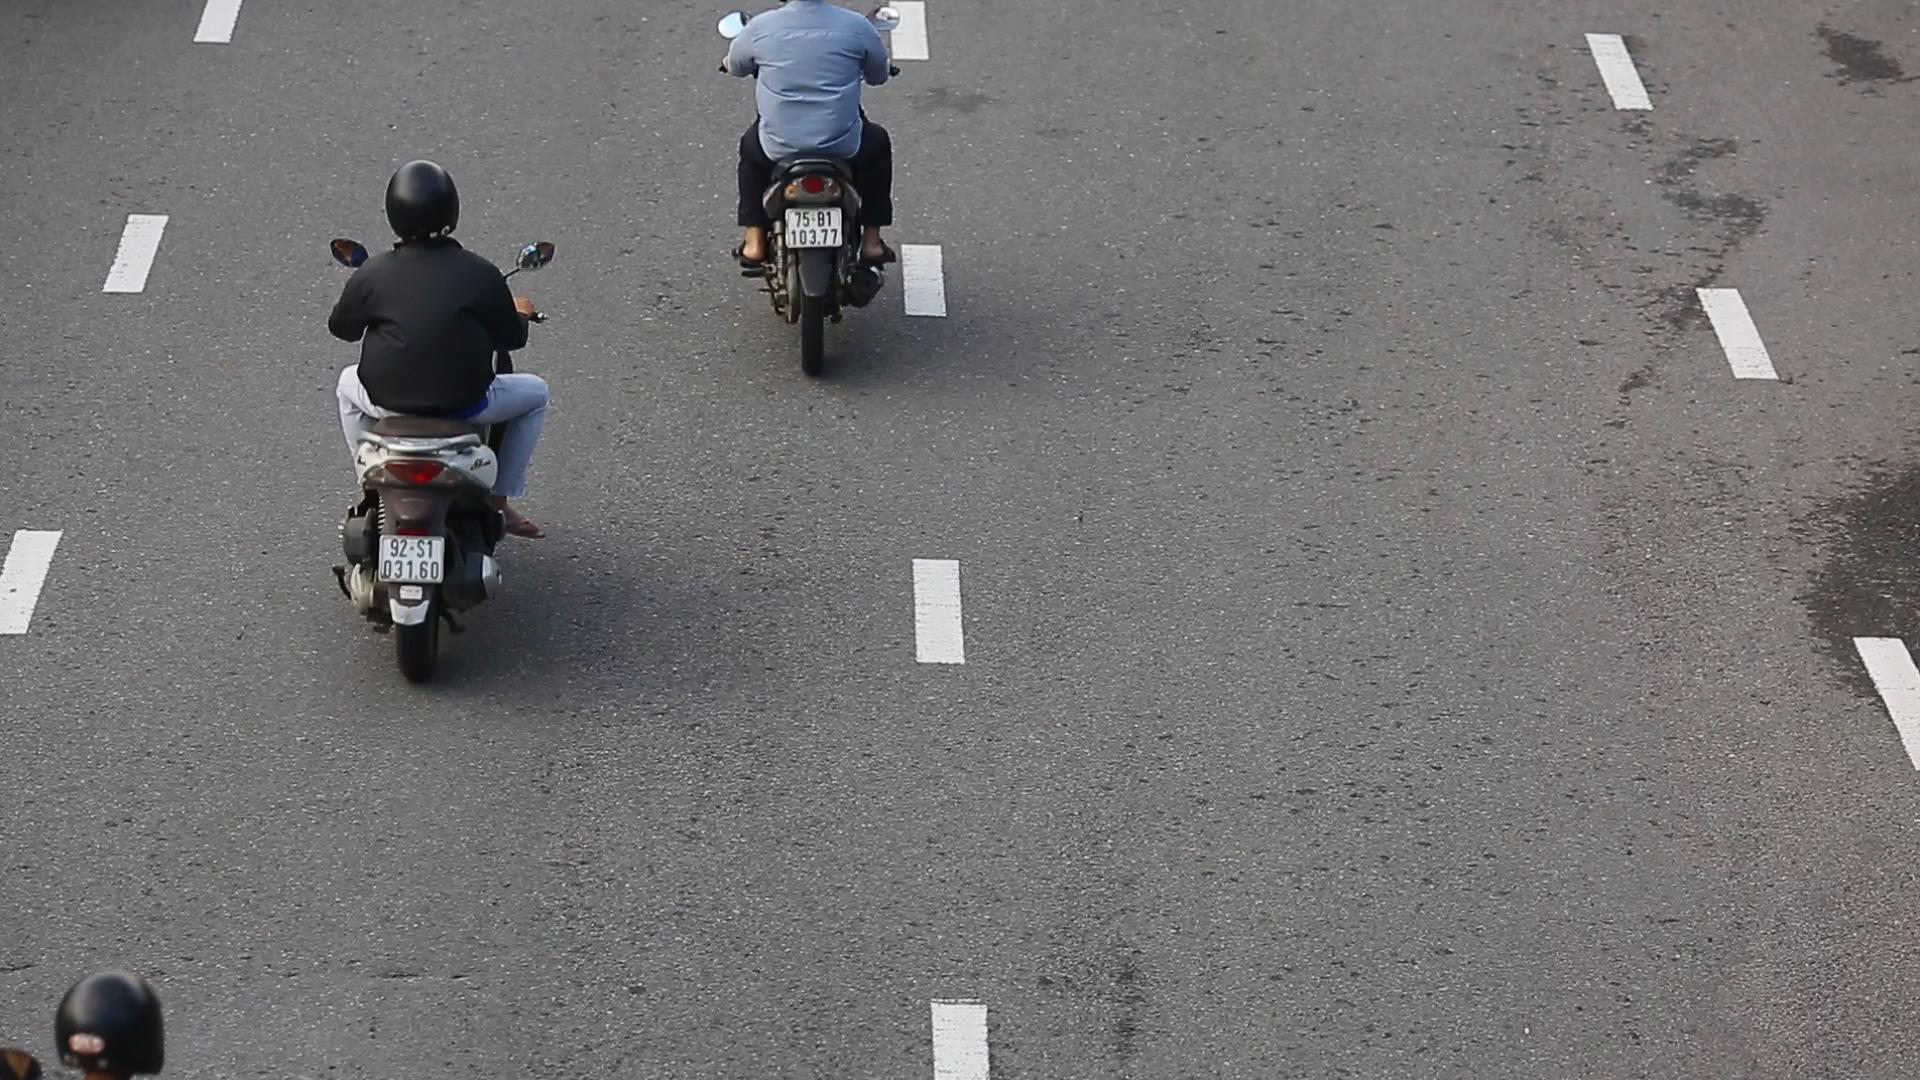motobike: (311, 144, 556, 676)
